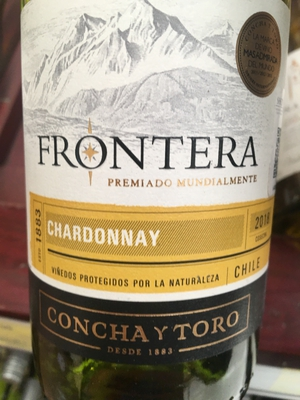frontera chardonnay: (18, 5, 286, 400)
